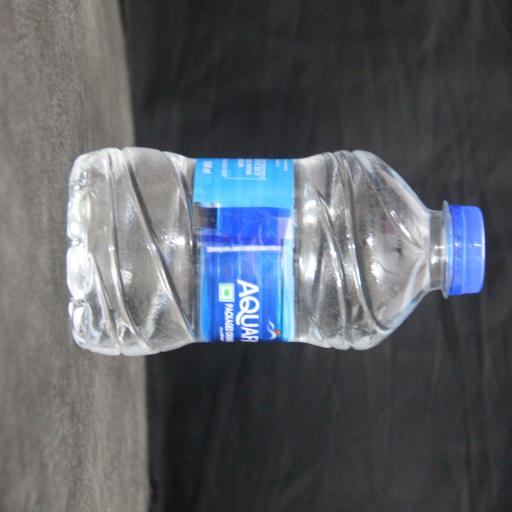Aquafina: (100, 40, 233, 512)
